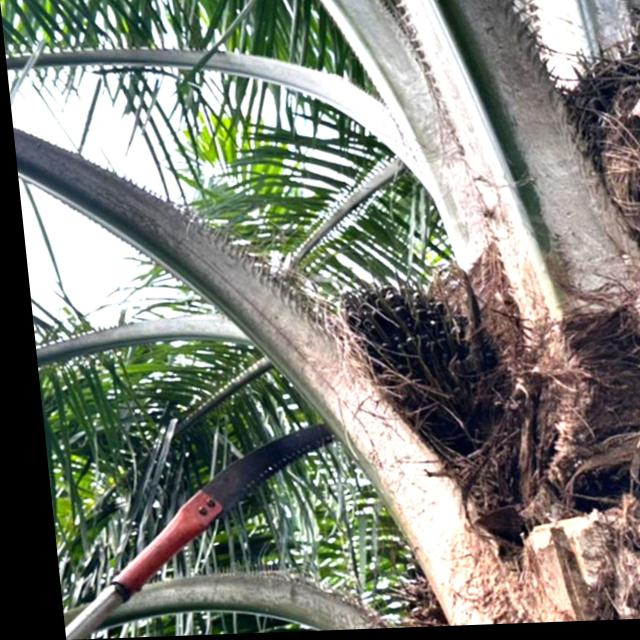unripe: (317, 272, 503, 467)
